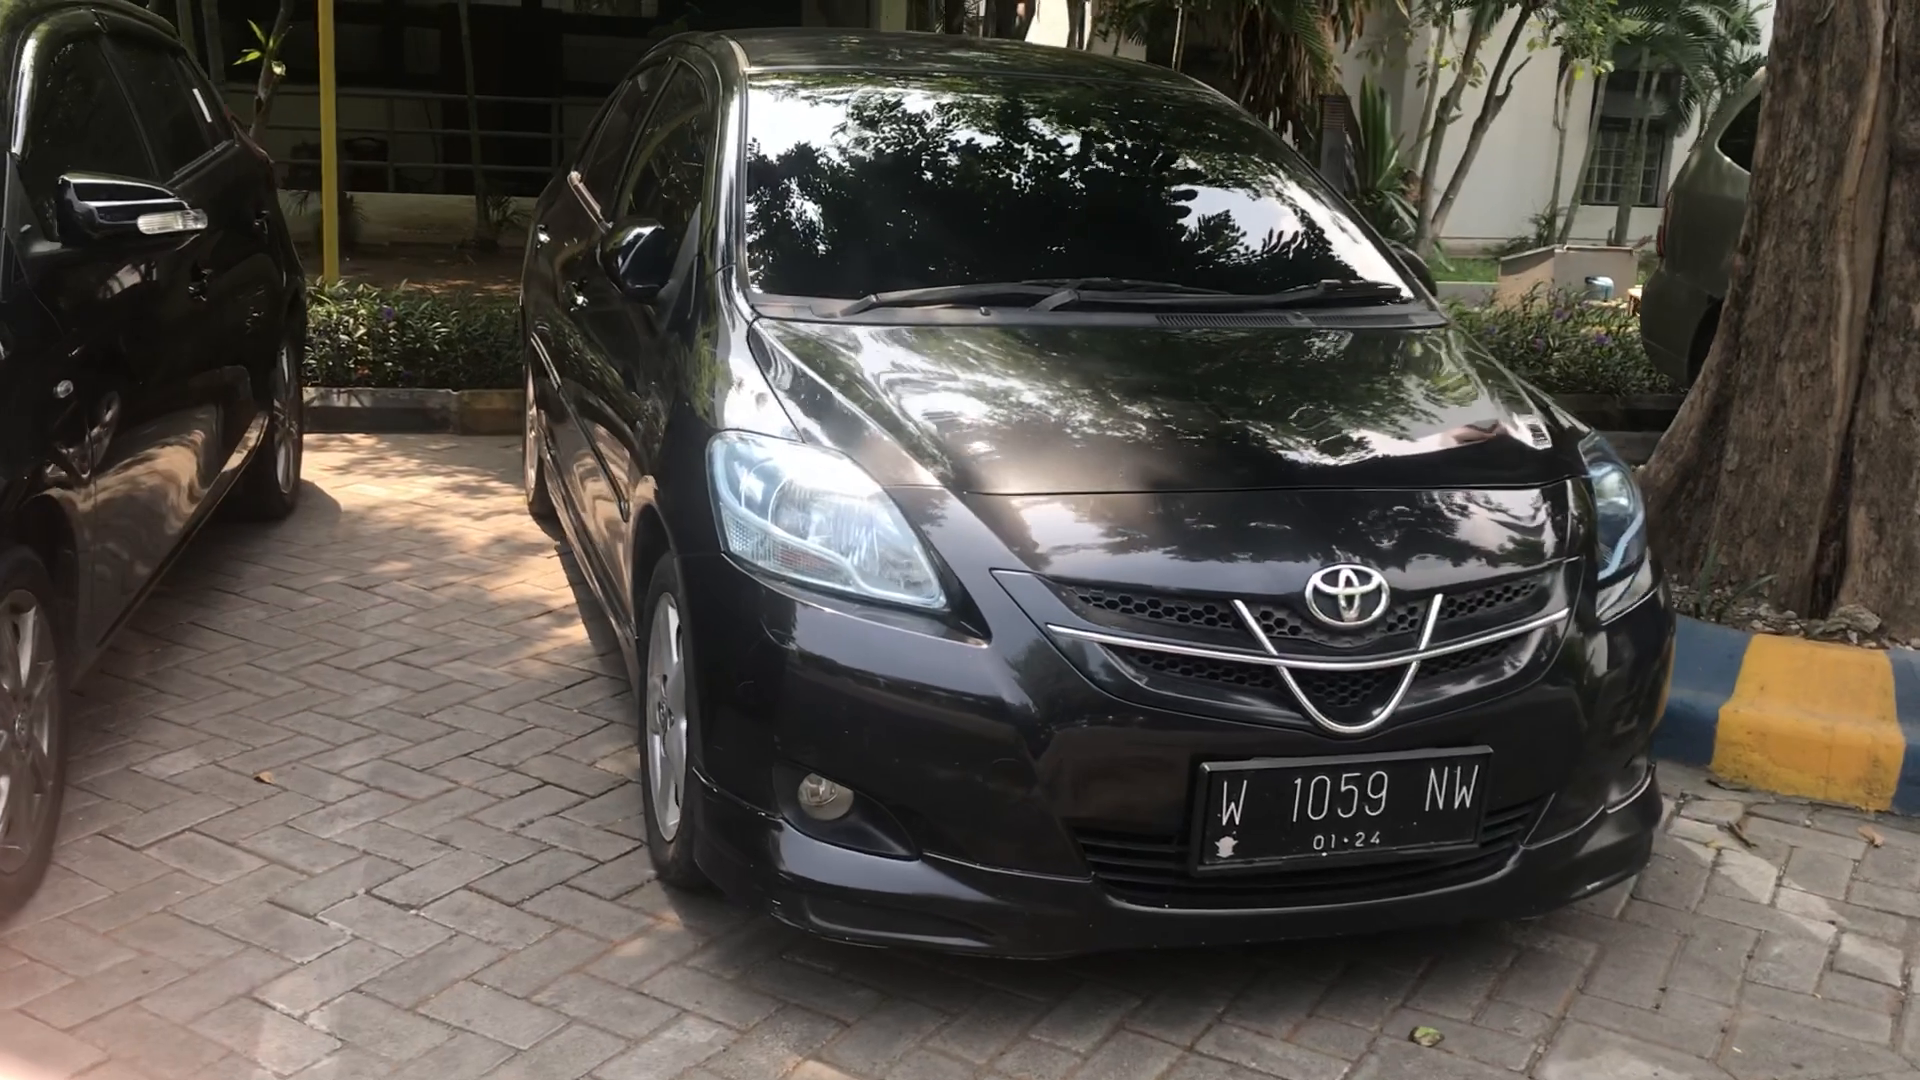plate: (1202, 757, 1497, 867)
